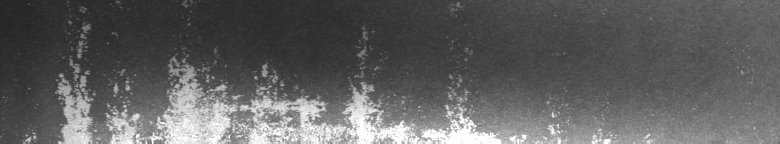kb: (32, 4, 650, 136)
